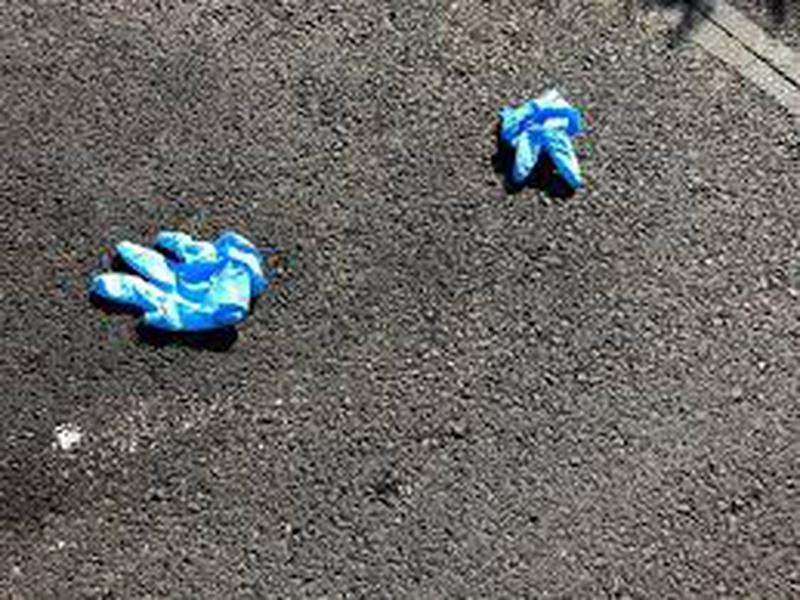gloves: (85, 225, 273, 340), (497, 85, 588, 197)
